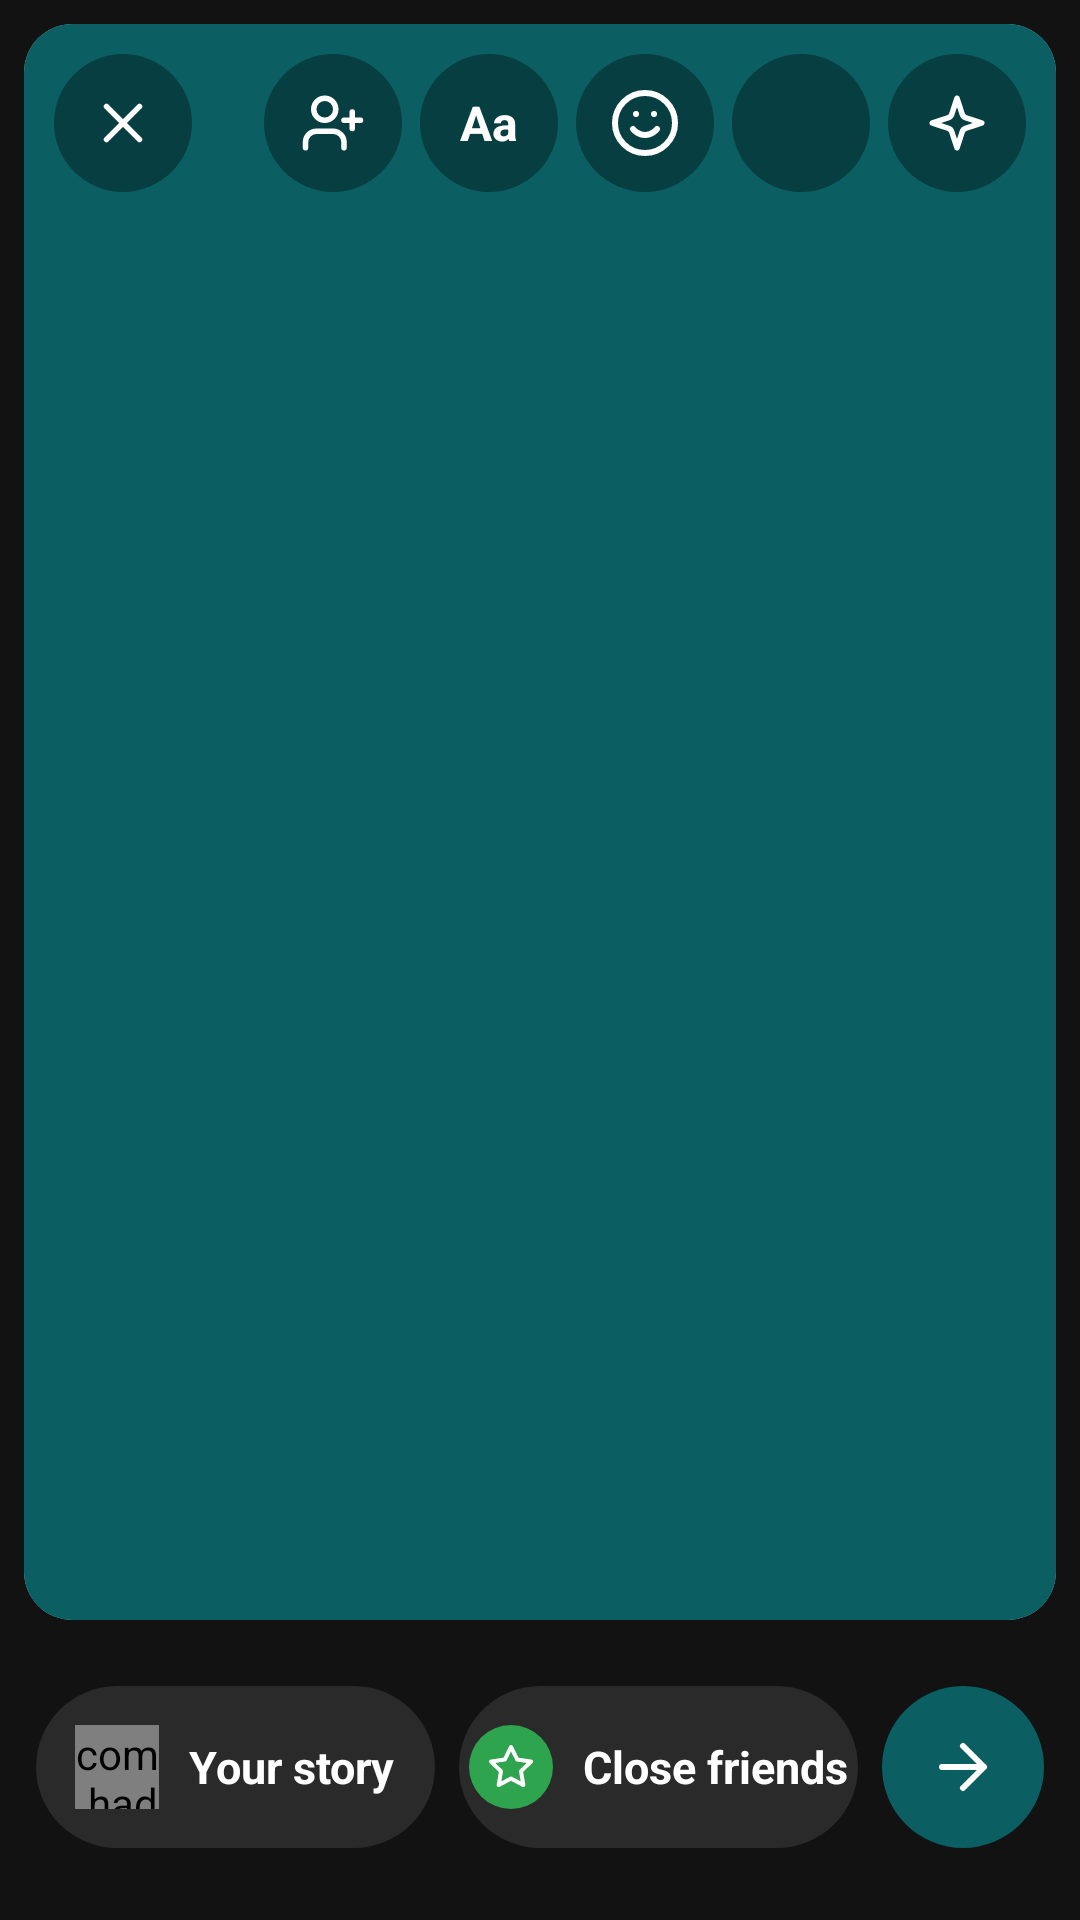

Icon click points for this 1080*1920 phone screenshot, format [x,y]:
close icon: [123,123]
effects icon: [957,123]
emoji icon: [645,123]
next arrow: [963,1767]
star icon: [511,1767]
tag people icon: [333,123]
